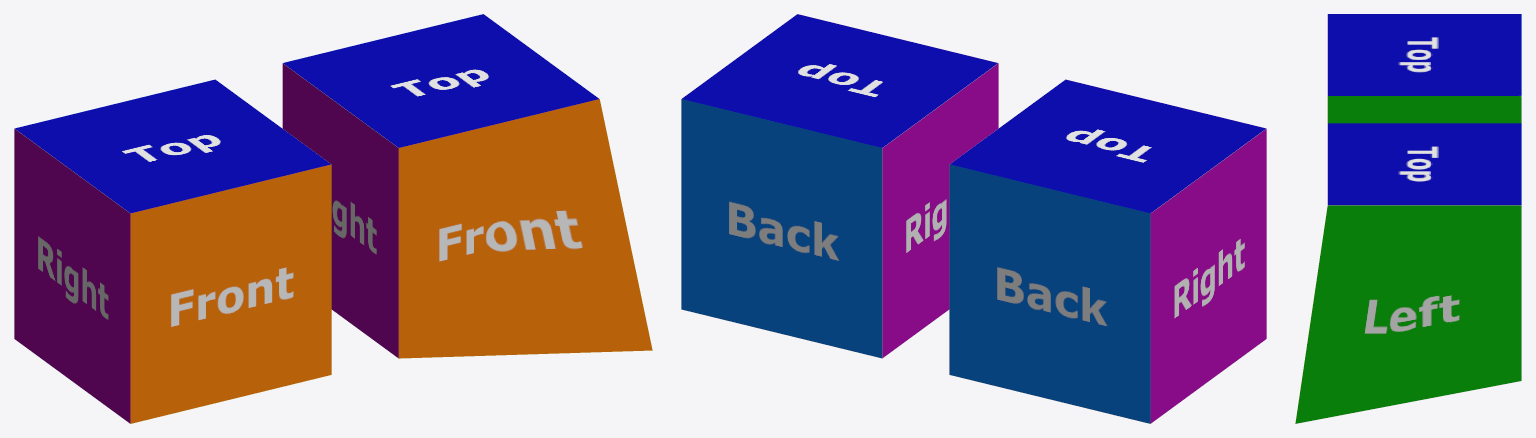
File: Accessor_Sparse_02.gltf
3 renders of one model, left to right at view 1: azimuth 30°, elevation 25°; view 2: azimuth 150°, elevation 25°; view 3: azimuth 270°, elevation 25°, orthographic. The views are drawn at different scales.
Size of the model in its own units: 1.5 by 0.7 by 0.7.
Materials: 1 (1 with a texture image).
